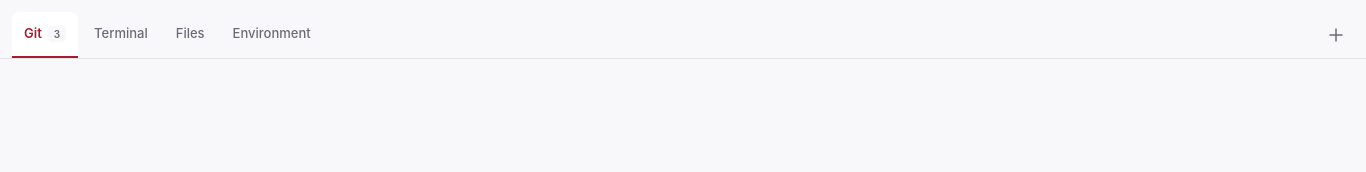
Test case: focuses a newly opened chat and returns focus to a surviving tab when closed
Click the button named "New side chat".
click(1336, 35)  # box [1318,17,1354,53]
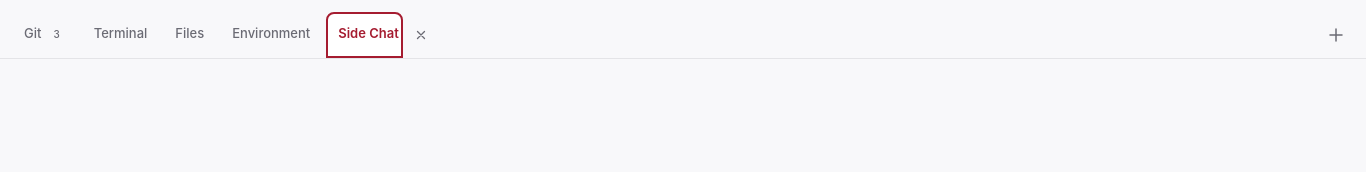
Click the button named "Close Side chat".
click(421, 35)  # box [403,17,439,53]
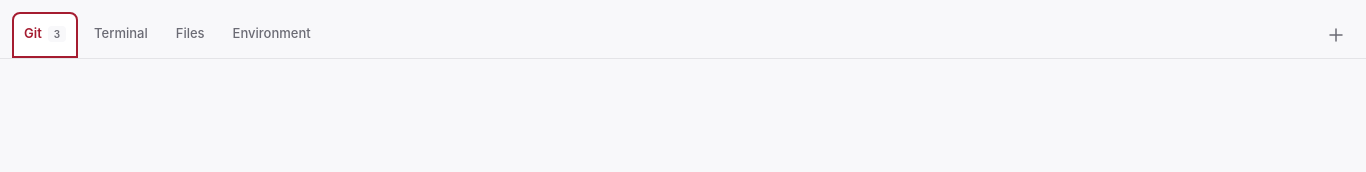
Expected: the tab "Side Chat" is gone
